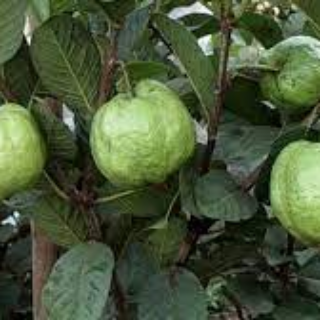oi: (86, 76, 201, 194)
